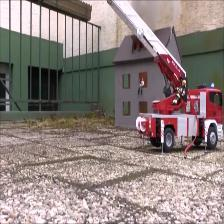smoke: (136, 4, 158, 18)
